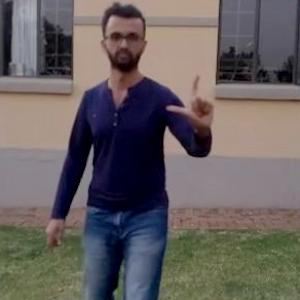land_hand: (163, 66, 223, 138)
